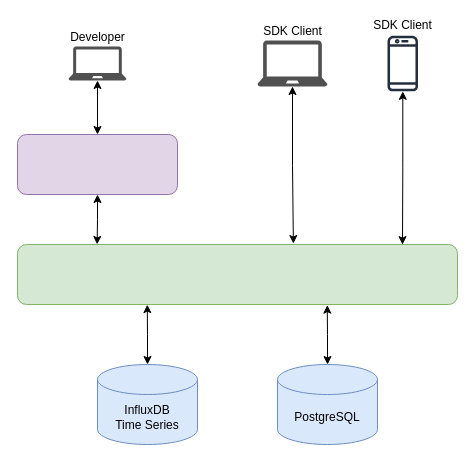
Some shapes in this 475 by 462 pixel diagram are drawn without their labels. Each missing label, with the centre of its shape:
Flagsmith Dashboard (React/Node): (97,164)
REST API (Django Rest Framework/Python): (237,274)
